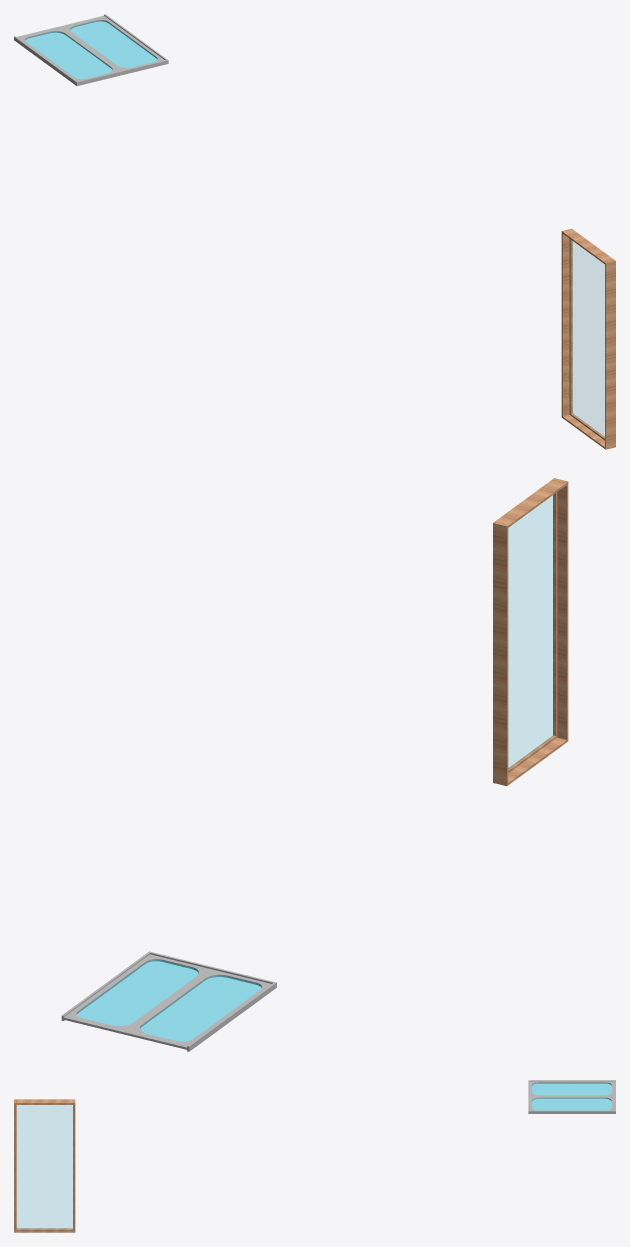
3 renders of one model, top to bottom at view 1: azimuth 30°, elevation 25°; view 2: azimuth 150°, elevation 25°; view 3: azimuth 270°, elevation 25°, orthographic. The views are drawn at different scales.
Visible parts, largest first — view 1: 0_0_2_2_1_2_3_1; view 2: 0_0_2_2_1_2_3_1; view 3: 0_0_2_2_1_2_3_1.
Part boxes in pixels (x1,y1,x2,y2): 0_0_2_2_1_2_3_1: (14, 14, 615, 449); 0_0_2_2_1_2_3_1: (61, 478, 568, 1051); 0_0_2_2_1_2_3_1: (14, 1080, 615, 1232).
Size of the model in its own units: 3.34 by 3.5 by 14.7.
4 materials, 1 textured.
